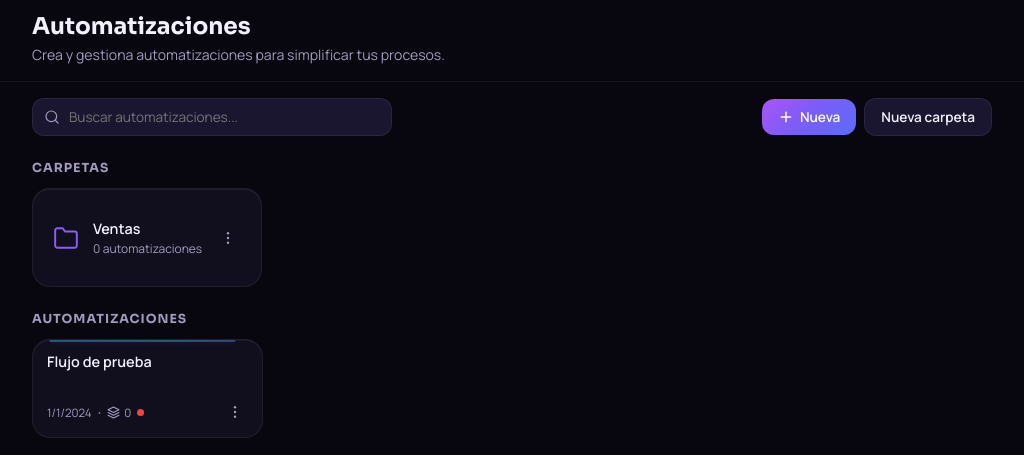
Test case: cada carpeta tiene su menú de acciones › al pulsarlo se abre el menú con Renombrar y Personalizar, y nada más
Expected: the text "Ventas" is shown, [93,219,140,238]
Click the button named "Acciones para Ventas" at (228, 238), box [214,225,240,251]
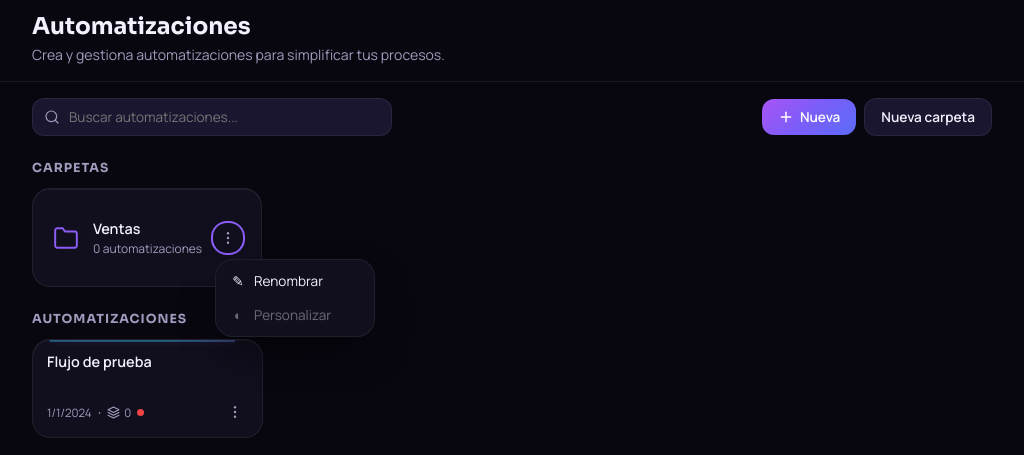
Now the menu item "✎ Renombrar" is shown, box [216,264,374,298]
Now the menu item "◐ Personalizar" is shown, box [216,298,374,332]
Now the number of menu items is 2, box [216,264,374,298]; [216,298,374,332]
